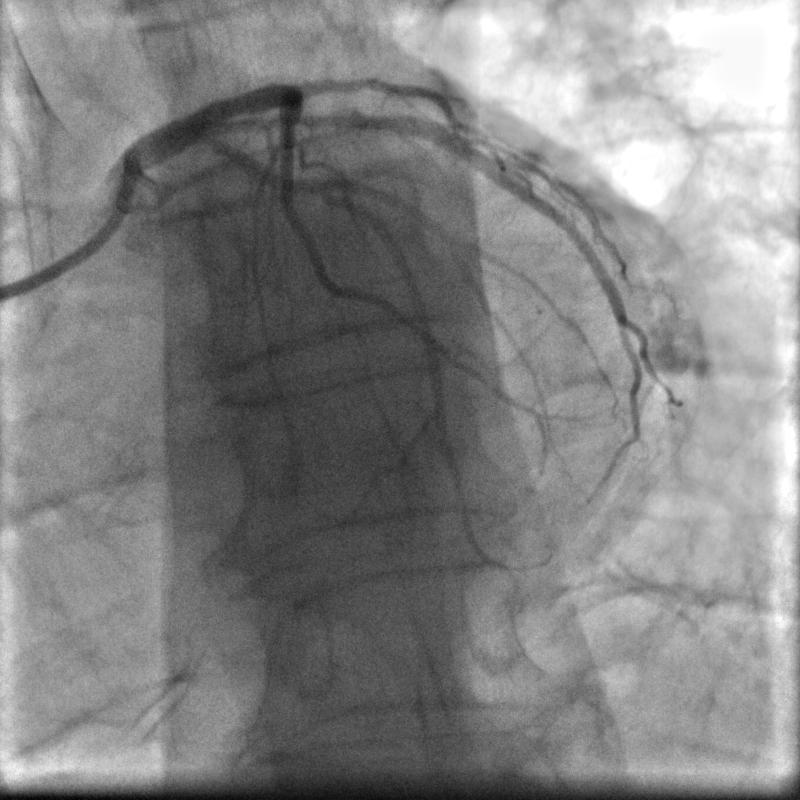Stenosis: (277, 119, 302, 163)
